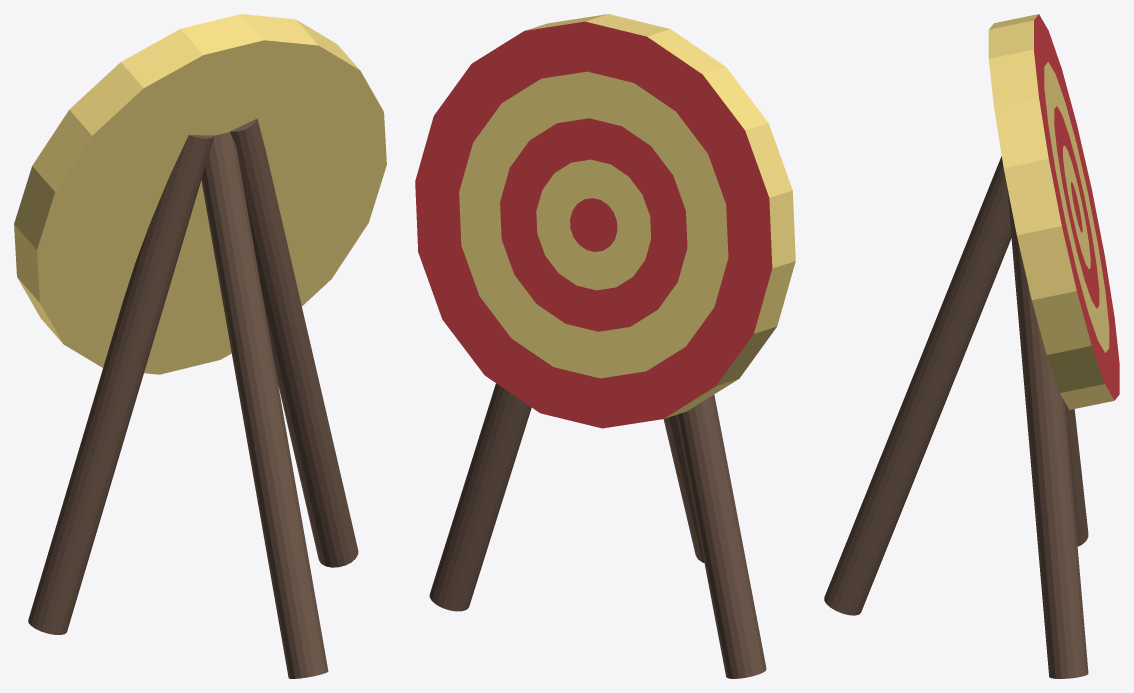
File: Target.fbx
The picture shows the model from 3 angles, left to right: view 1: azimuth 30°, elevation 25°; view 2: azimuth 150°, elevation 25°; view 3: azimuth 270°, elevation 25°; orthographic projection. The views are drawn at different scales.
Visible parts, largest first — view 1: Zielscheibe; view 2: Zielscheibe; view 3: Zielscheibe.
Part boxes in pixels (x1=…): Zielscheibe: x1=14, y1=14, x2=386, y2=678; Zielscheibe: x1=415, y1=14, x2=795, y2=678; Zielscheibe: x1=824, y1=14, x2=1119, y2=678.
Bounding box in the file's own units: 223 × 359 × 167.
